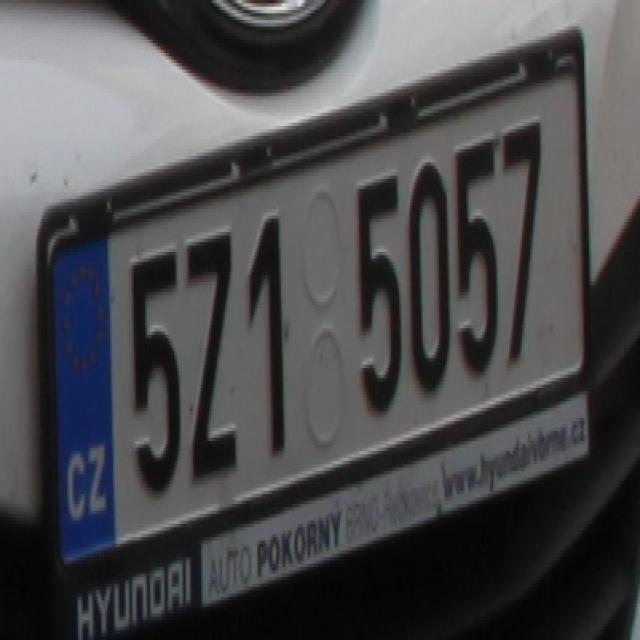0: (405, 152, 455, 392)
1: (247, 209, 289, 458)
5: (128, 242, 182, 481), (354, 169, 406, 411), (455, 136, 498, 375)
7: (500, 113, 542, 371)
Z: (185, 226, 236, 474)
